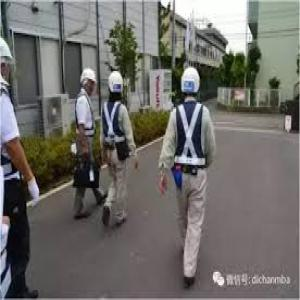white: (180, 65, 202, 103), (106, 67, 126, 103), (79, 67, 98, 98)
